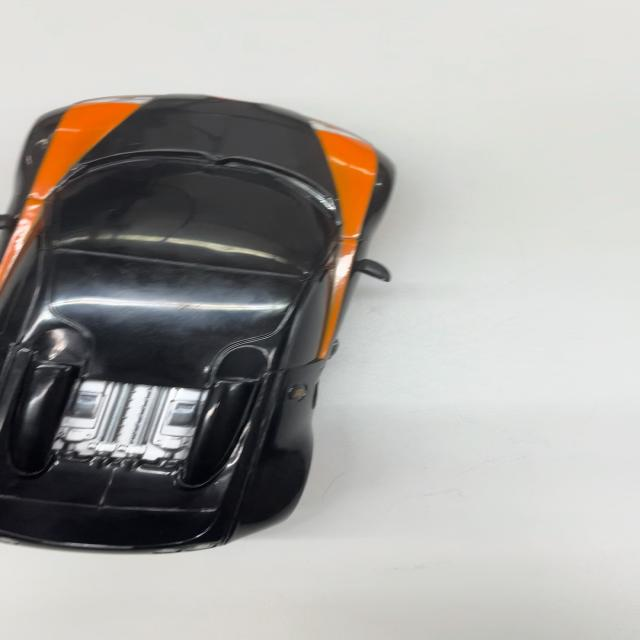vehicle_body: (0, 94, 409, 559)
